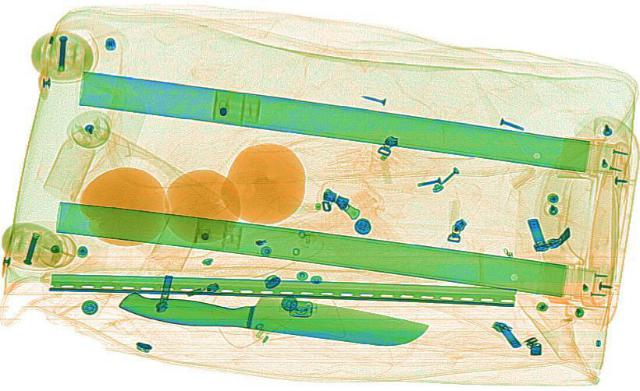Knife: (112, 283, 432, 348)
